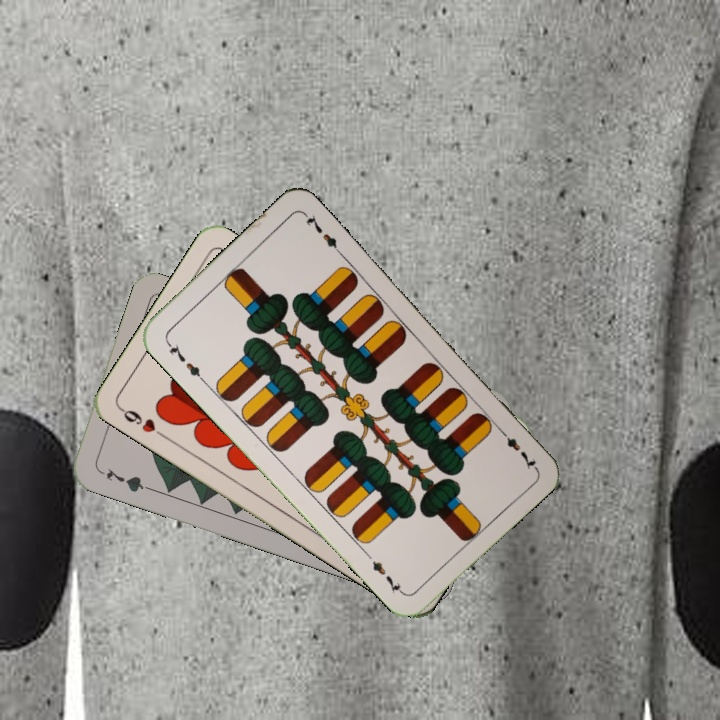E7: (494, 423, 539, 472), (162, 337, 207, 384)
G7: (95, 465, 153, 495)
H9: (116, 403, 168, 441)
